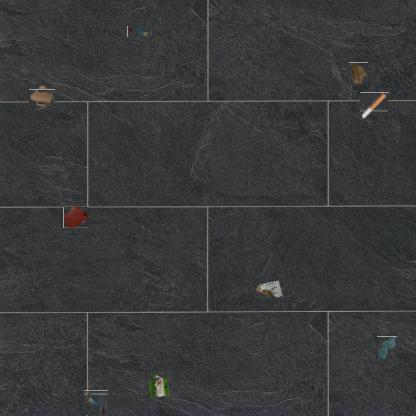dirty: (360, 92, 388, 119), (146, 372, 172, 398), (84, 391, 109, 415), (255, 279, 285, 299), (348, 62, 368, 85), (32, 87, 53, 107), (127, 25, 152, 37)
liquid: (63, 206, 88, 228), (377, 336, 397, 359)
